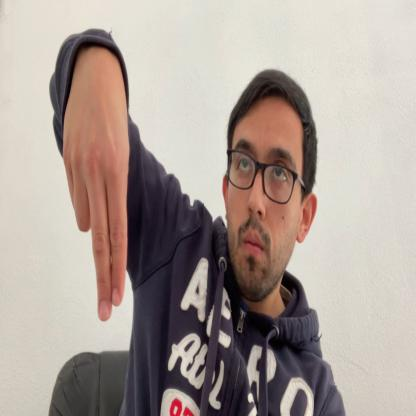N: (63, 47, 130, 323)
